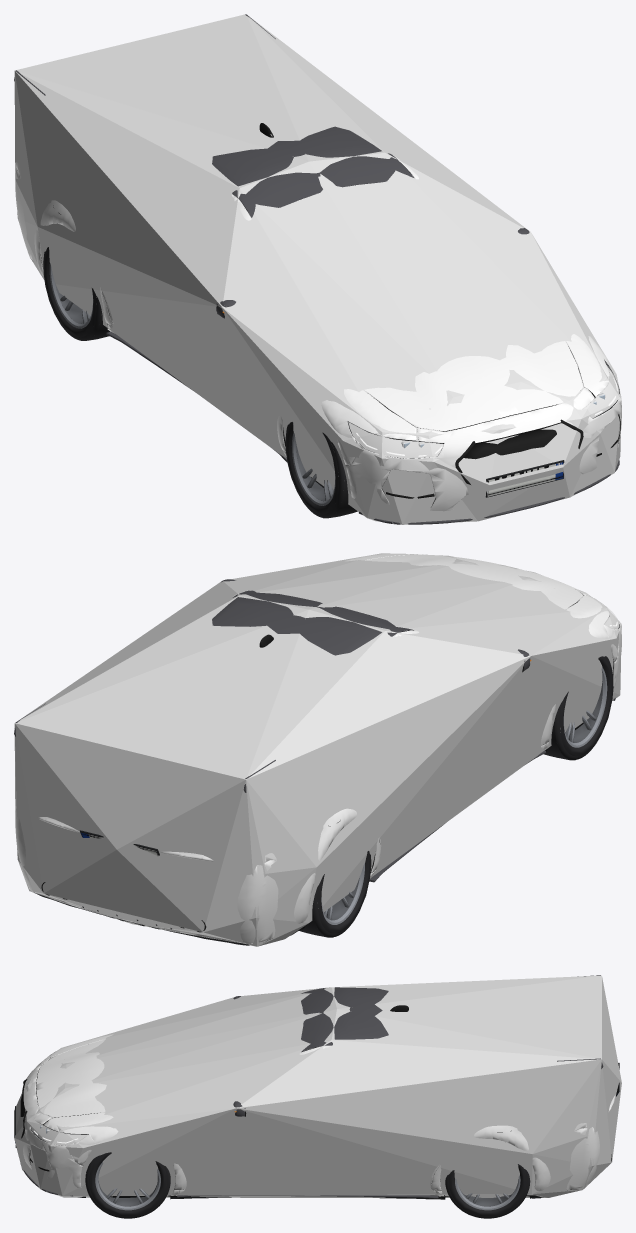
The model's file is noctra_sovereign_lod0.glb.
3 renders of one model, top to bottom at view 1: azimuth 30°, elevation 25°; view 2: azimuth 150°, elevation 25°; view 3: azimuth 270°, elevation 25°, orthographic. The views are drawn at different scales.
Visible parts, largest first — view 1: col_body, body, trim, wheel_FR, wheel_RR, lights_front, plate_rear; view 2: col_body, body, trim, wheel_FR, wheel_RR; view 3: col_body, body, trim, wheel_FL, wheel_RL, lights_front, underbody.
Boxes of the visible parts, <box> form: col_body: <box>14,14,621,524</box>; body: <box>15,155,621,511</box>; trim: <box>14,14,620,524</box>; wheel_FR: <box>285,422,357,518</box>; wheel_RR: <box>43,247,109,340</box>; lights_front: <box>348,360,619,457</box>; plate_rear: <box>487,462,563,496</box>; col_body: <box>14,553,621,946</box>; body: <box>15,553,621,943</box>; trim: <box>14,579,619,932</box>; wheel_FR: <box>543,656,613,760</box>; wheel_RR: <box>300,851,371,937</box>; col_body: <box>14,975,621,1197</box>; body: <box>23,988,615,1196</box>; trim: <box>15,975,619,1198</box>; wheel_FL: <box>85,1152,170,1218</box>; wheel_RL: <box>445,1164,530,1218</box>; lights_front: <box>31,1121,87,1144</box>; underbody: <box>78,1189,577,1199</box>.
Bounding box in the file's own units: 2.1 × 1.45 × 4.84.
13 materials, 1 textured.
